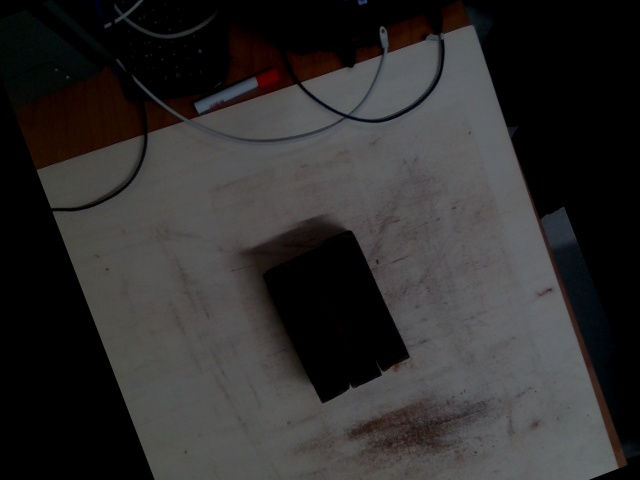brick-side: (262, 262, 352, 402), (291, 247, 380, 387), (322, 232, 411, 372)
